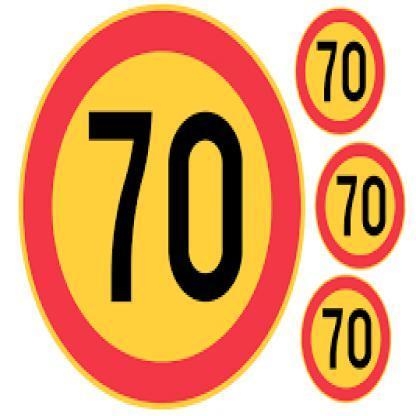Speed Limit 70: (27, 10, 302, 401), (305, 278, 392, 401), (300, 11, 386, 133), (316, 149, 404, 266)
